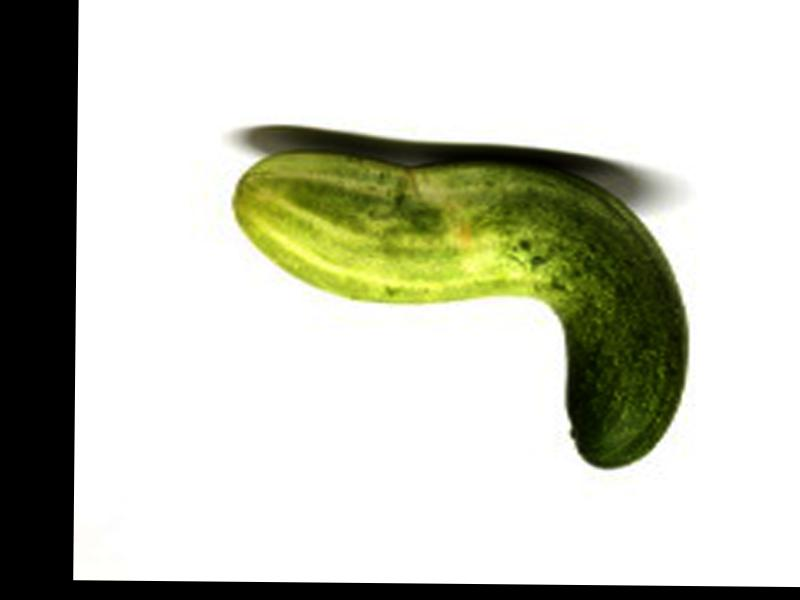Cucumber: (229, 147, 690, 469)
